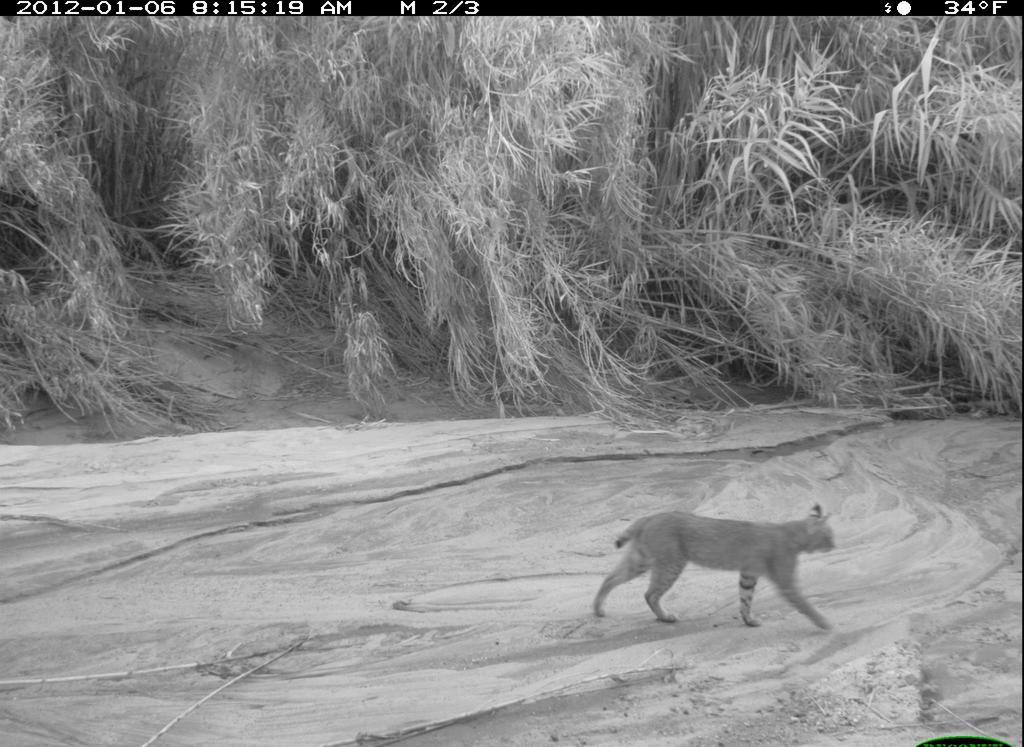bobcat: (589, 501, 843, 639)
